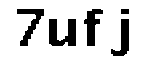7: (14, 5, 47, 50)
f: (79, 3, 107, 50)
j: (107, 6, 137, 60)
u: (46, 14, 81, 51)
